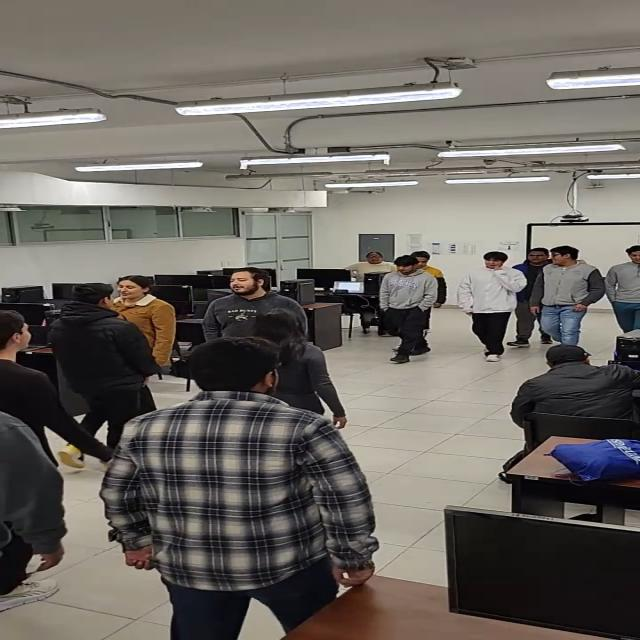Persona: (96, 333, 380, 640), (49, 279, 160, 476), (0, 313, 132, 469), (0, 402, 76, 615), (220, 306, 352, 426), (198, 266, 313, 348), (96, 276, 180, 382), (454, 250, 527, 362), (528, 245, 605, 347), (378, 255, 439, 363), (512, 248, 555, 350), (604, 246, 640, 336), (408, 250, 456, 308)
